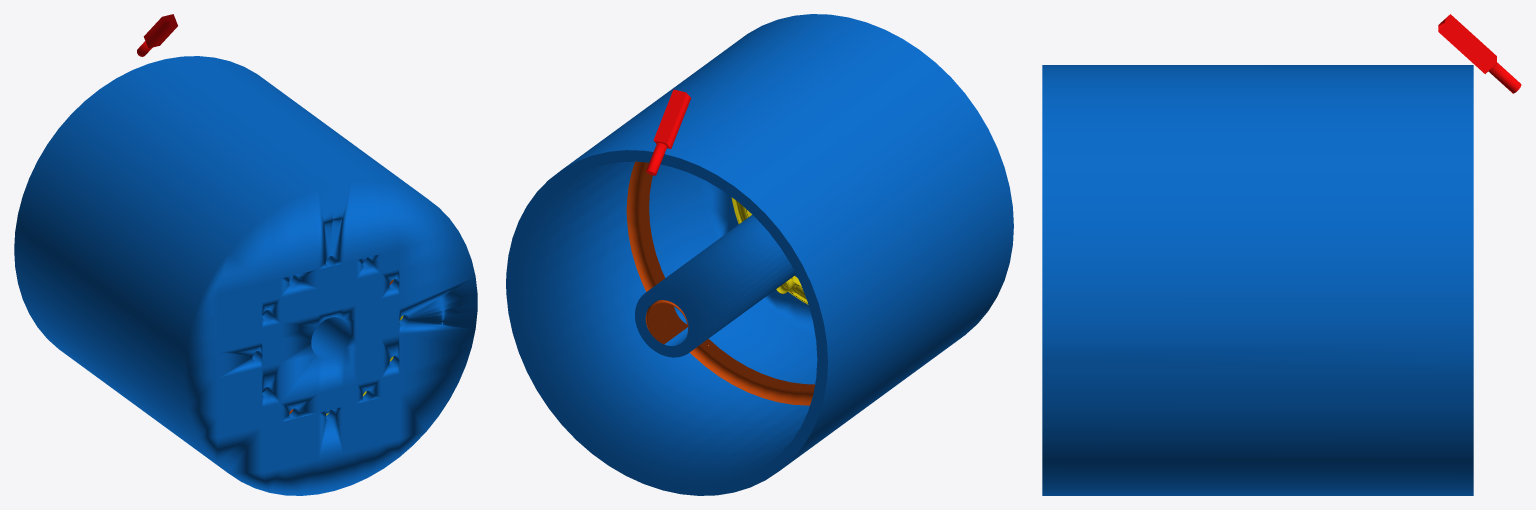
File: Assembly.obj
The picture shows the model from 3 angles, left to right: view 1: azimuth 30°, elevation 25°; view 2: azimuth 150°, elevation 25°; view 3: azimuth 270°, elevation 25°; orthographic projection. The views are drawn at different scales.
Visible parts, largest first — view 1: Magnetic_Coils.001_Magnetic_Coils.001_Default_OBJ, Magnetic_Coils.001_Magnetic_Coils.001_Default_OBJ.001; view 2: Magnetic_Coils.001_Magnetic_Coils.001_Default_OBJ, Magnetic_Coils.001_Magnetic_Coils.001_Default_OBJ.004, Magnetic_Coils.001_Magnetic_Coils.001_Default_OBJ.001, Magnetic_Coils.001_Magnetic_Coils.001_Default_OBJ.003; view 3: Magnetic_Coils.001_Magnetic_Coils.001_Default_OBJ, Magnetic_Coils.001_Magnetic_Coils.001_Default_OBJ.001.
Part boxes in pixels (x1,y1,x2,y2): Magnetic_Coils.001_Magnetic_Coils.001_Default_OBJ: (14,56,477,495); Magnetic_Coils.001_Magnetic_Coils.001_Default_OBJ.001: (137,14,177,56); Magnetic_Coils.001_Magnetic_Coils.001_Default_OBJ: (506,14,1013,495); Magnetic_Coils.001_Magnetic_Coils.001_Default_OBJ.004: (626,161,814,405); Magnetic_Coils.001_Magnetic_Coils.001_Default_OBJ.001: (646,89,691,175); Magnetic_Coils.001_Magnetic_Coils.001_Default_OBJ.003: (731,197,808,304); Magnetic_Coils.001_Magnetic_Coils.001_Default_OBJ: (1042,65,1473,495); Magnetic_Coils.001_Magnetic_Coils.001_Default_OBJ.001: (1438,14,1521,93).
Size of the model in its own units: 76.2 by 89.07 by 84.64.
